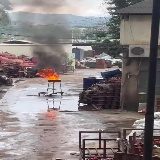fire: (36, 69, 61, 80)
